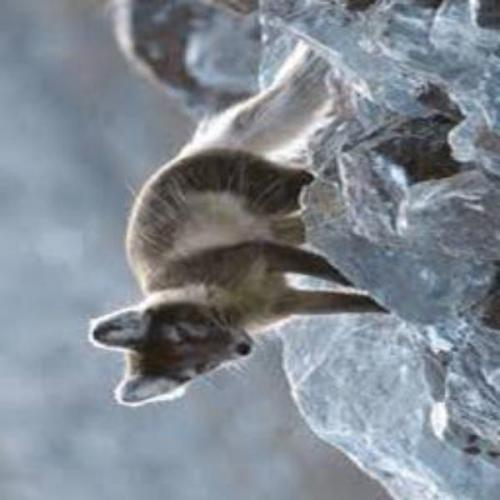arctic_fox-endangered: (86, 40, 388, 409)
